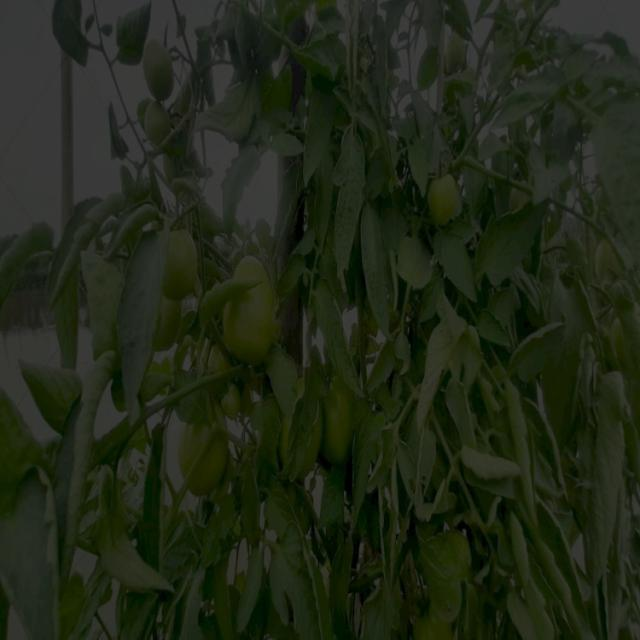tomato: (227, 261, 284, 367), (177, 426, 238, 499), (330, 372, 366, 479), (287, 383, 322, 486), (150, 232, 200, 299), (599, 230, 640, 296), (437, 519, 481, 578), (398, 610, 475, 640), (428, 162, 464, 225), (137, 106, 182, 152), (142, 46, 179, 97), (441, 27, 478, 76), (153, 307, 182, 356), (509, 172, 538, 220), (200, 349, 224, 390), (228, 389, 250, 417)
